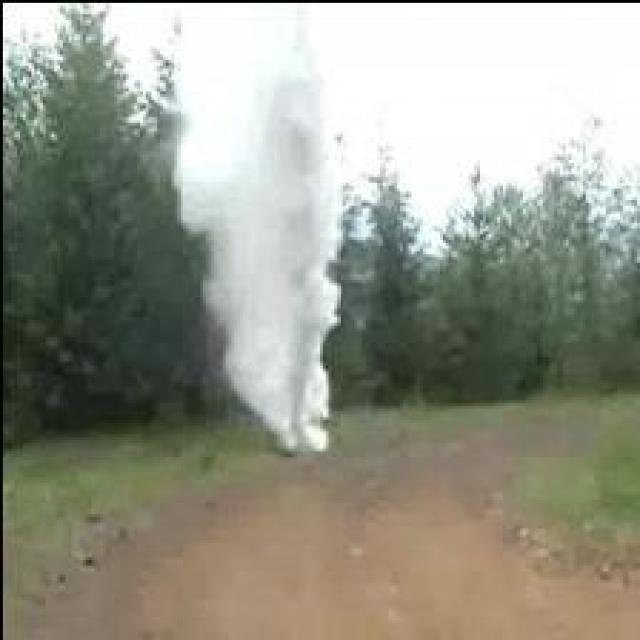Smoke: (174, 16, 339, 453)
